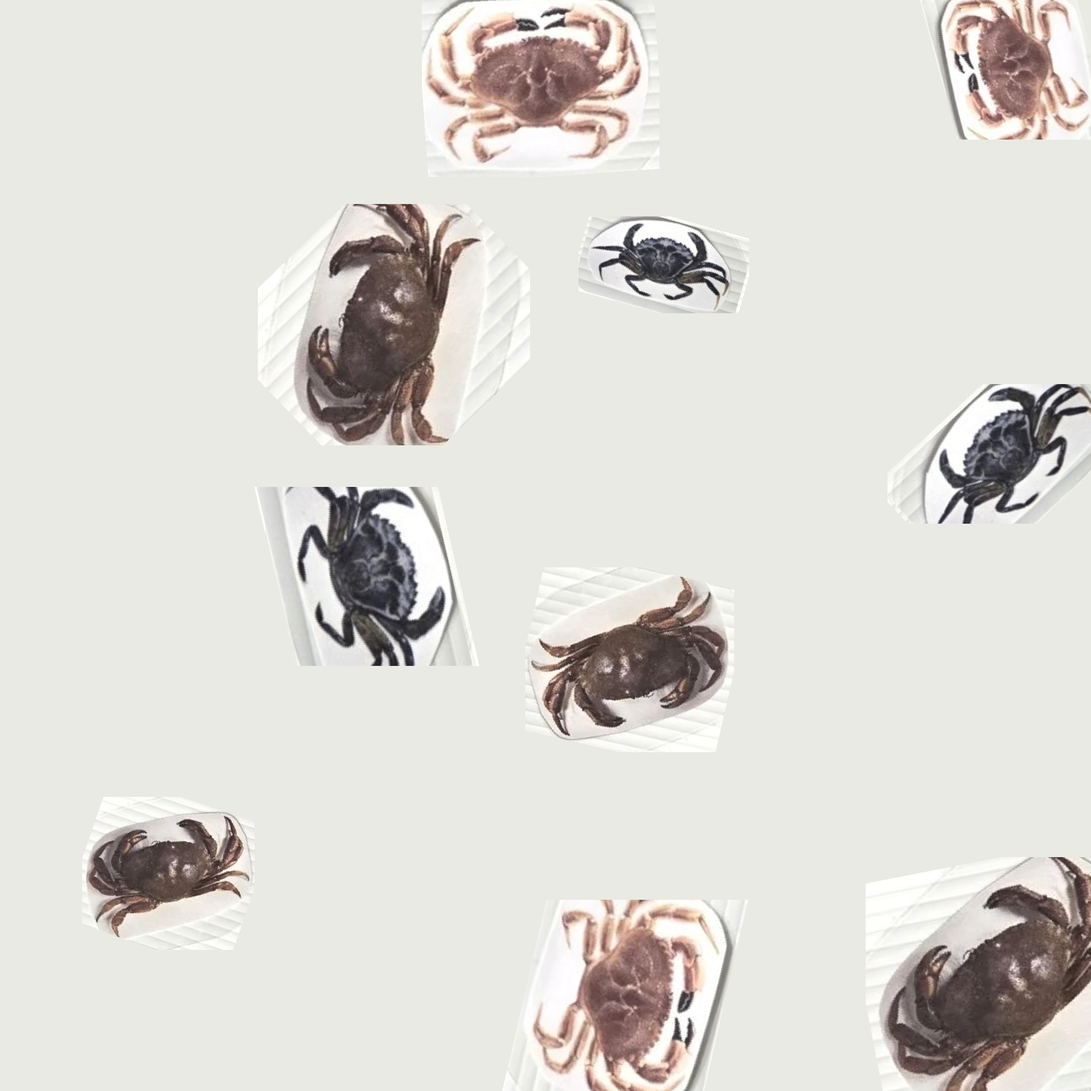evil: (259, 486, 477, 670), (891, 364, 1091, 539), (576, 210, 764, 319)
normal: (219, 200, 536, 440), (865, 860, 1091, 1091), (521, 564, 757, 755), (521, 895, 724, 1091), (419, 2, 655, 169), (79, 795, 257, 951), (936, 0, 1091, 138)
